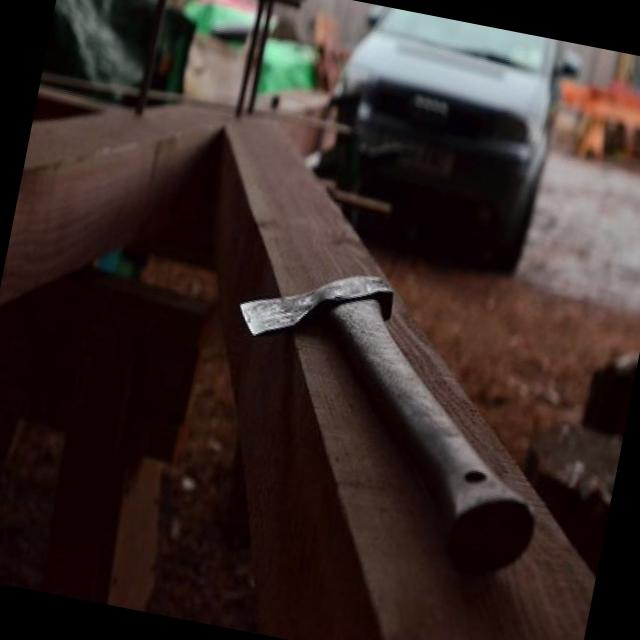Axe: (240, 276, 533, 574)
